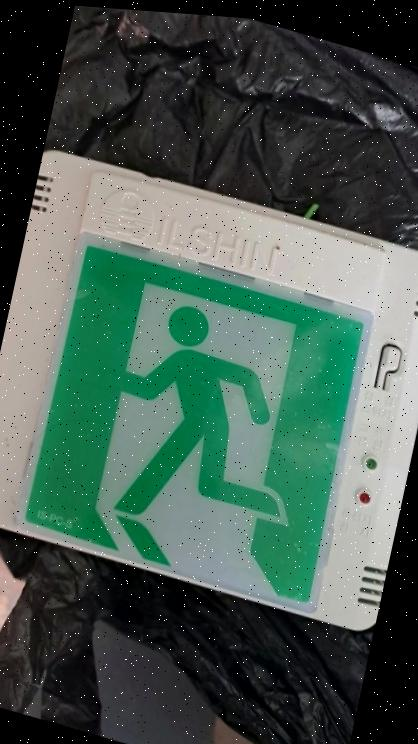emergency_exit: (2, 150, 417, 632), (18, 230, 376, 616)
